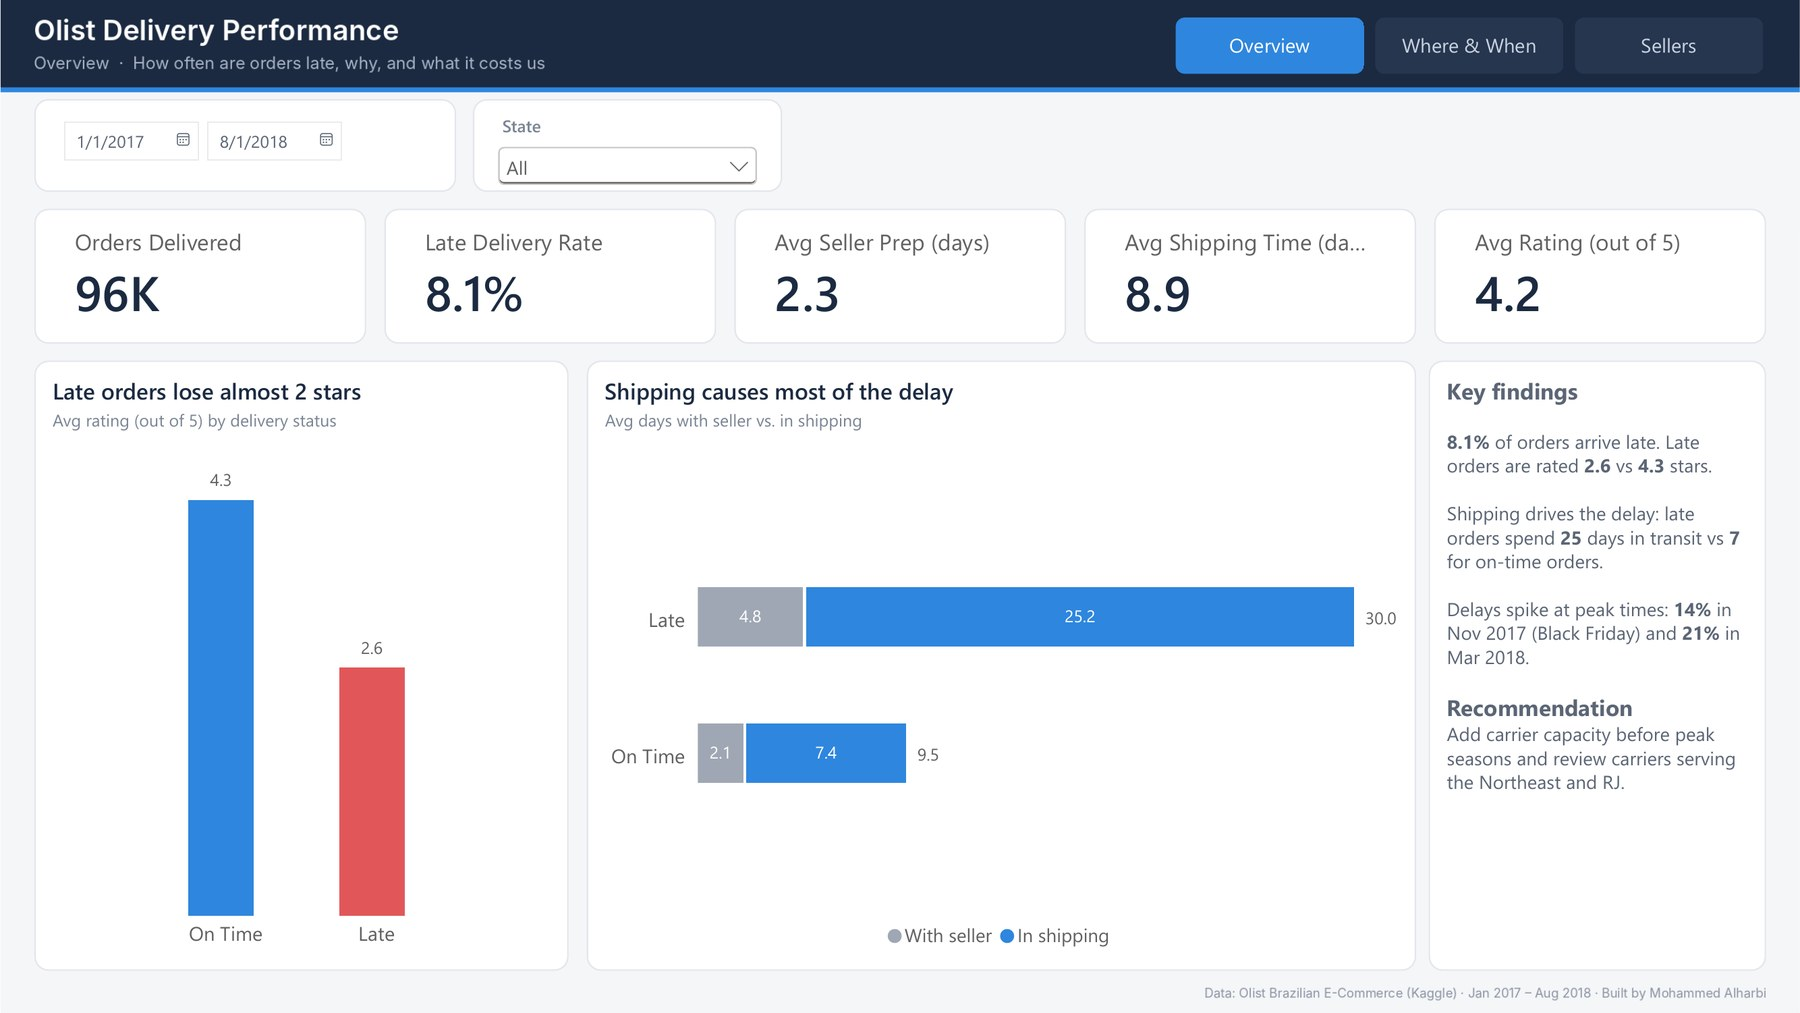

The dashboard page shown, as its layout file describes it:
{"tool":"powerbi","page":{"name":"Overview","canvas":[1280,720],"ordinal":1},"visuals":[{"type":"cardVisual","fields":{"Data":["orders.Total Orders"]},"box":[24,148,236,96],"z":0},{"type":"cardVisual","fields":{"Data":["orders.Late %"]},"box":[273,148,236,96],"z":1000},{"type":"cardVisual","fields":{"Data":["orders.Avg Prep Days"]},"box":[522,148,236,96],"z":2000},{"type":"cardVisual","fields":{"Data":["orders.Avg Shipping Days"]},"box":[771,148,236,96],"z":3000},{"type":"cardVisual","fields":{"Data":["orders.Avg Review Score"]},"box":[1020,148,236,96],"z":4000},{"type":"clusteredColumnChart","title":"Late orders lose almost 2 stars","fields":{"Category":["orders.Delivery Status"],"Y":["orders.Avg Review Score"]},"box":[24.2,256,380,434],"z":5000},{"type":"barChart","title":"Shipping causes most of the delay","fields":{"Category":["orders.Delivery Status"],"Y":["orders.Avg Prep Days","orders.Avg Shipping Days"]},"box":[416.6,256,590.8,434],"z":6000},{"type":"textbox","box":[1016.4,256,239.3,434],"z":7000},{"type":"slicer","title":"Order period","fields":{"Values":["orders.Purchase Month"]},"box":[24,70,300,66],"z":8000},{"type":"slicer","fields":{"Values":["customers.customer_state"]},"box":[335.8,70,220,66],"z":9000},{"type":"pageNavigator","box":[836,12,420,40],"z":10000}]}

Visuals, with their boxes in screenshot pixels (x1, y1, x2, y2), scaled from the page's 1280x720 canvas onto the 1800x1013 screenshot:
cardVisual - orders.Total Orders: 34,208,366,343
cardVisual - orders.Late %: 384,208,716,343
cardVisual - orders.Avg Prep Days: 734,208,1066,343
cardVisual - orders.Avg Shipping Days: 1084,208,1416,343
cardVisual - orders.Avg Review Score: 1434,208,1766,343
"Late orders lose almost 2 stars" clusteredColumnChart: 34,360,568,971
"Shipping causes most of the delay" barChart: 586,360,1417,971
textbox: 1429,360,1766,971
"Order period" slicer: 34,98,456,191
slicer - customers.customer_state: 472,98,782,191
pageNavigator: 1176,17,1766,73
